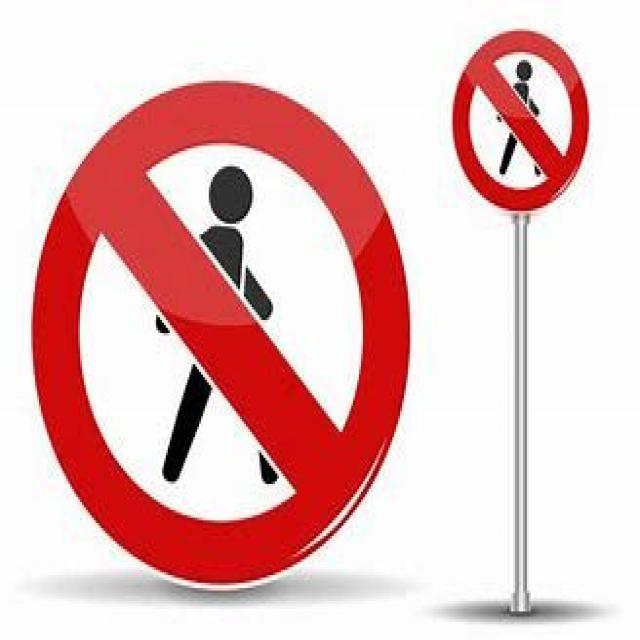PEDESTRIAN_PROHIBITED: (33, 77, 416, 589)
